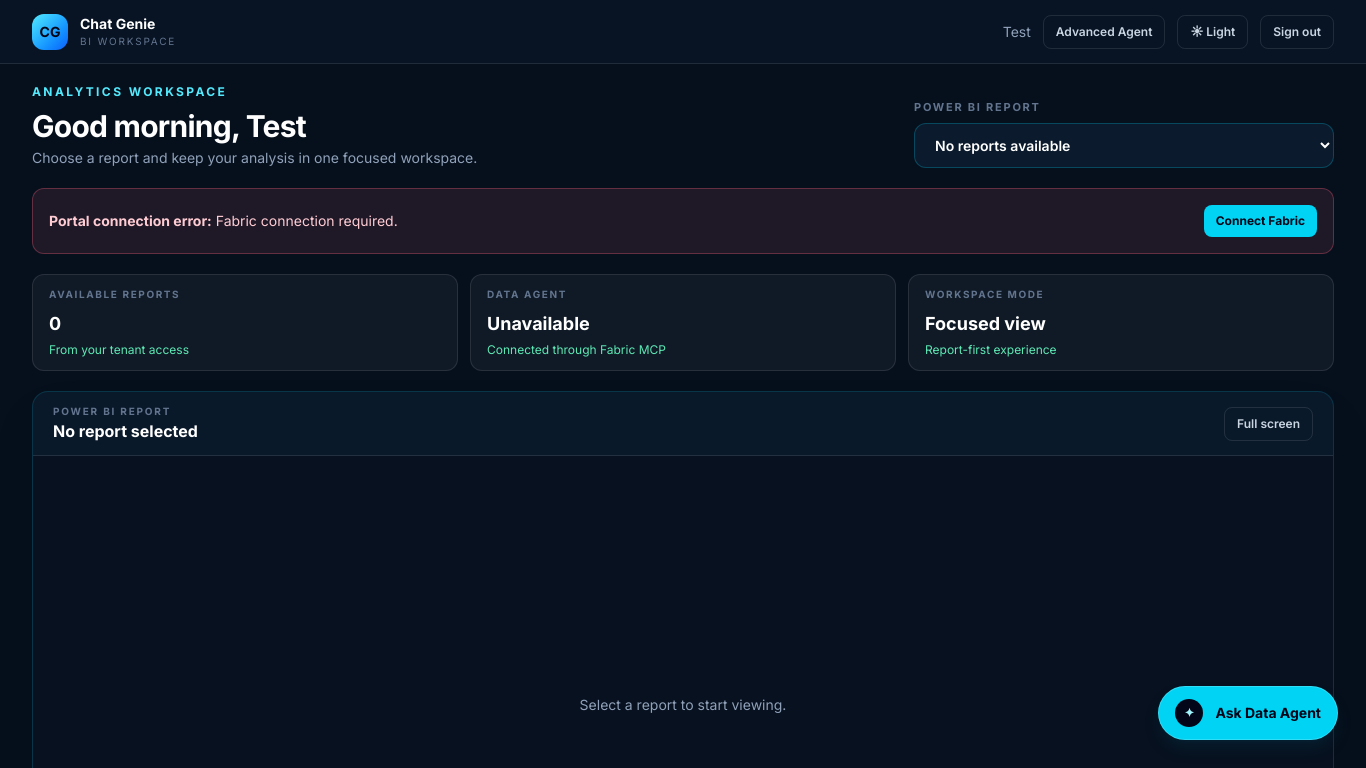
Fabric portal reconnection › shows a failed interactive sign-in and lets the user retry
Click the button "Connect Fabric": (1260, 221) [1204,205,1317,237]
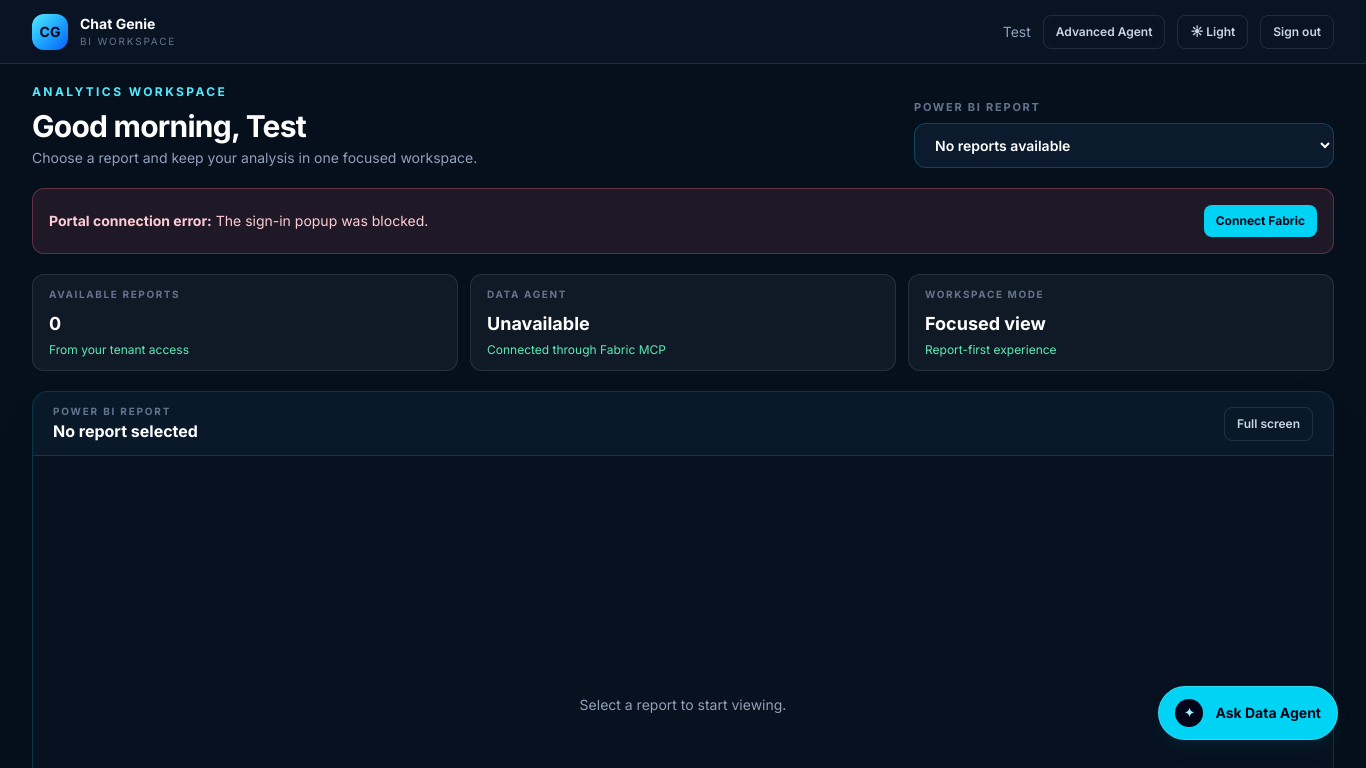
Check: the message shows "The sign-in popup was blocked.", box [216,212,428,229]
